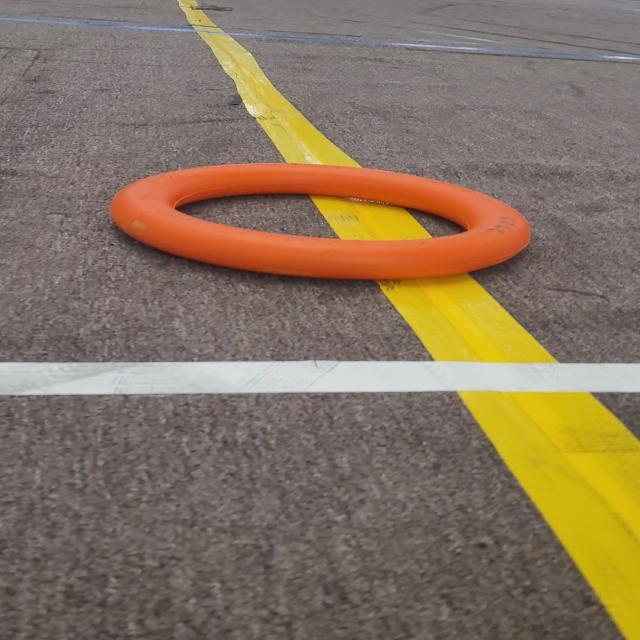note: (101, 156, 569, 300)
